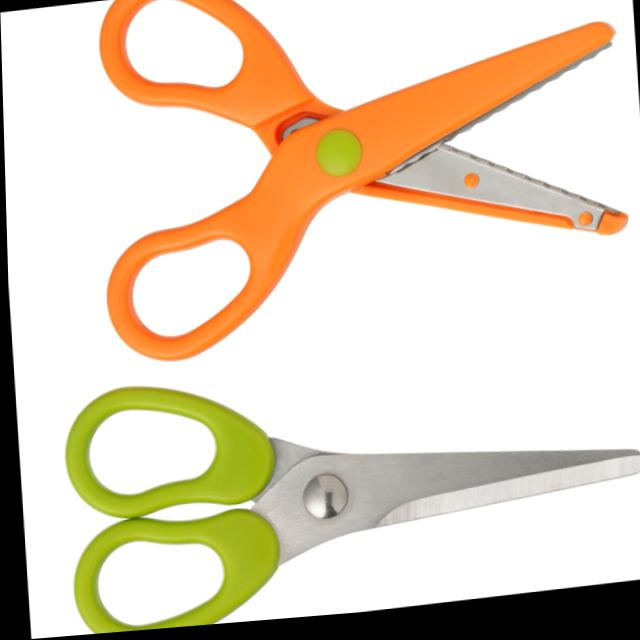scissor: (75, 0, 640, 383)
